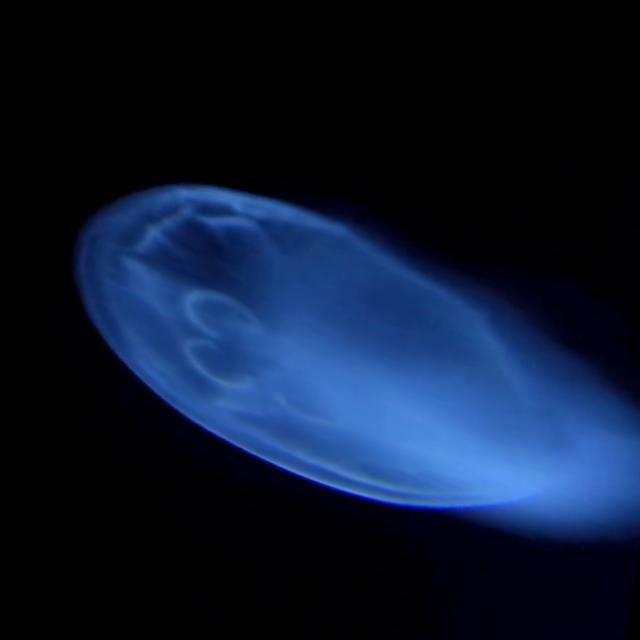Moon-jellyfish: (61, 176, 640, 531)
